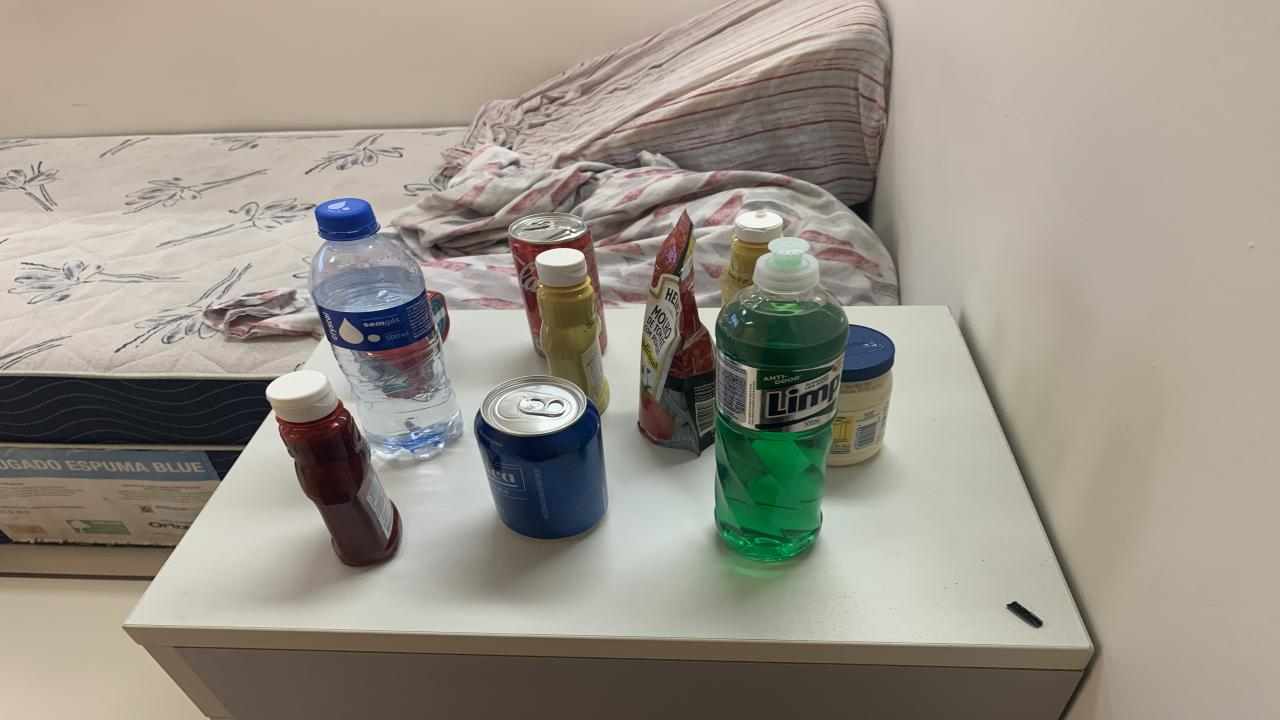Coke-Drinks: (508, 212, 608, 356)
Detergent-Cleanup_Items: (715, 240, 850, 561)
Ketchup-Pantry_Items: (268, 369, 402, 566)
Mayonnaise-Pantry_Items: (828, 324, 895, 465)
Mustard-Pantry_Items: (535, 248, 610, 412), (720, 210, 782, 306)
Tomato_Sauce-Pantry_Items: (638, 212, 715, 454)
Tonic-Drinks: (475, 375, 608, 538)
Tuna_Can-Pantry_Items: (428, 291, 450, 341)
Water_Bottle-Drinks: (308, 197, 462, 458)
